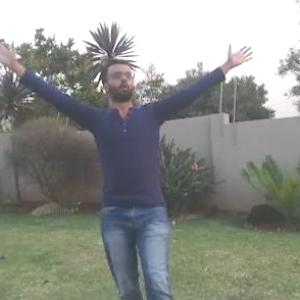takeoff: (1, 45, 251, 299)
